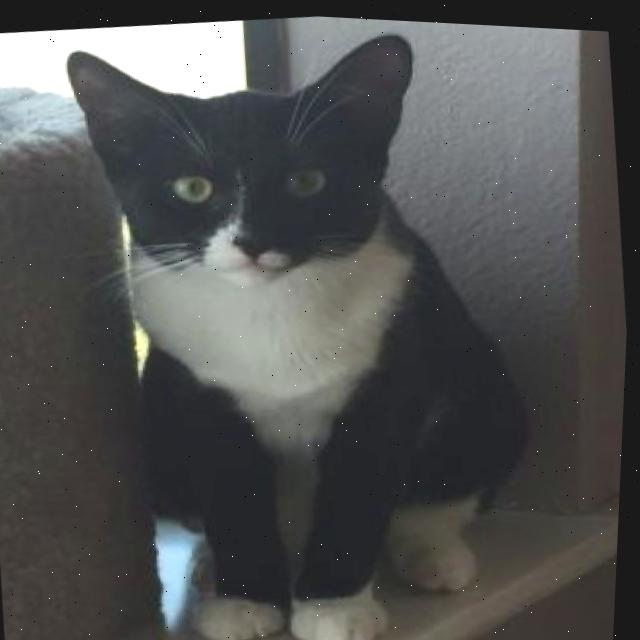Tuxedo: (39, 2, 576, 640)
